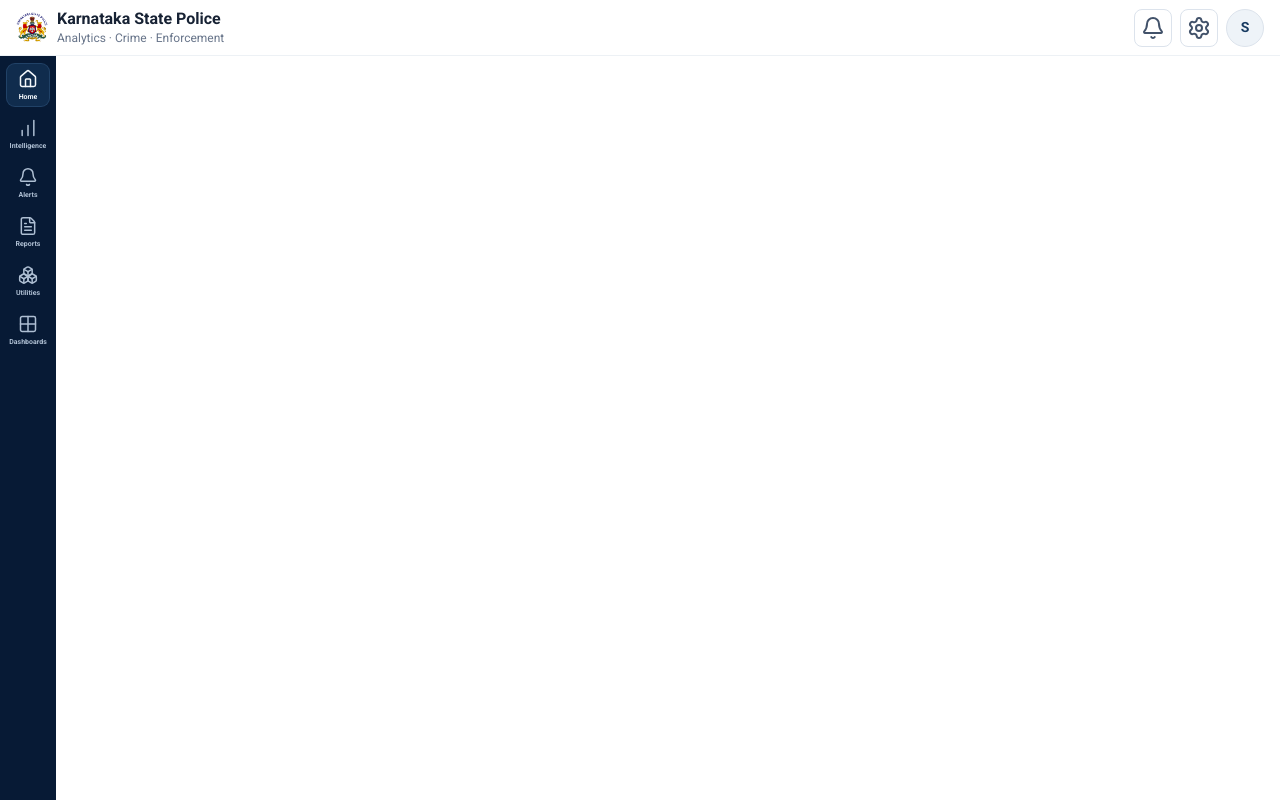
Test: removes Team and switches only among authorized personas
The image size is (1280, 800).
Click the button named "Open account menu". click: (1245, 28)
box: x1=1226 y1=8 x2=1264 y2=46
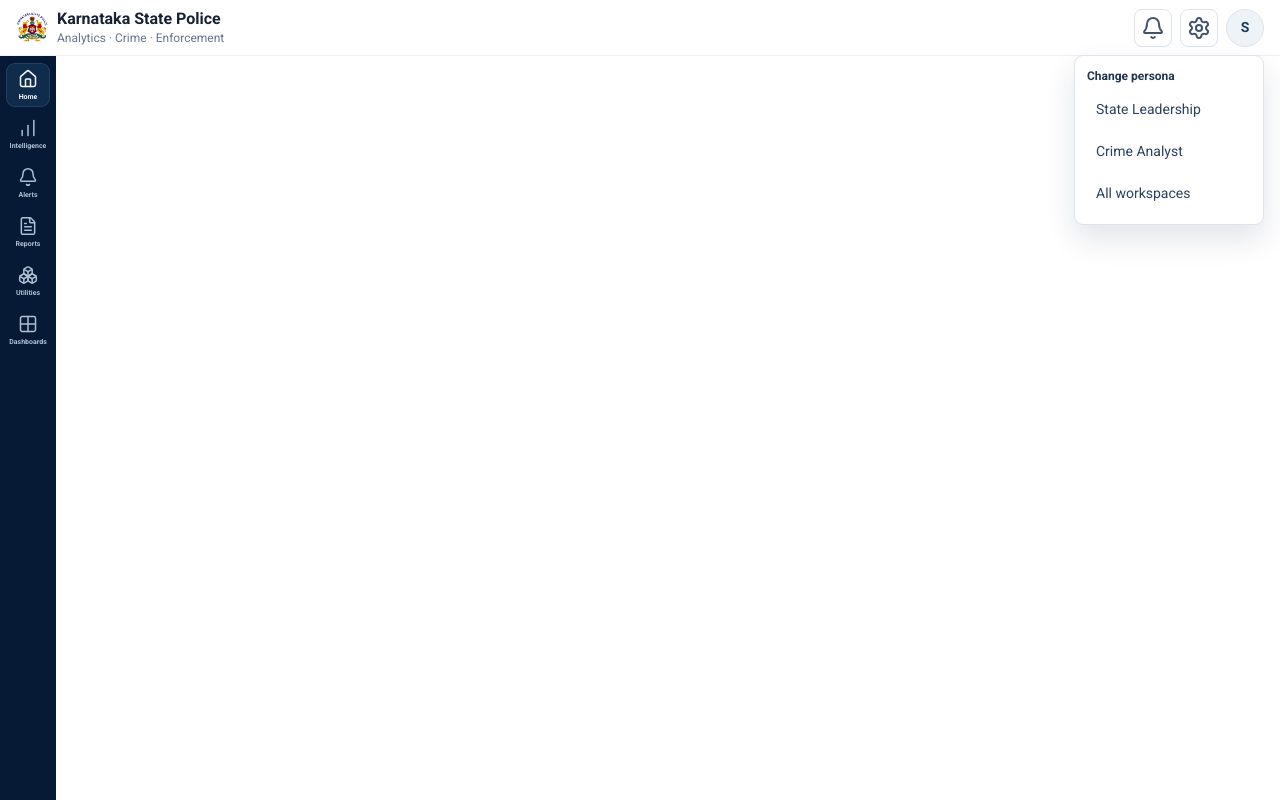
Click the menu item "Crime Analyst". click: (1169, 151)
box: x1=1087 y1=133 x2=1251 y2=170
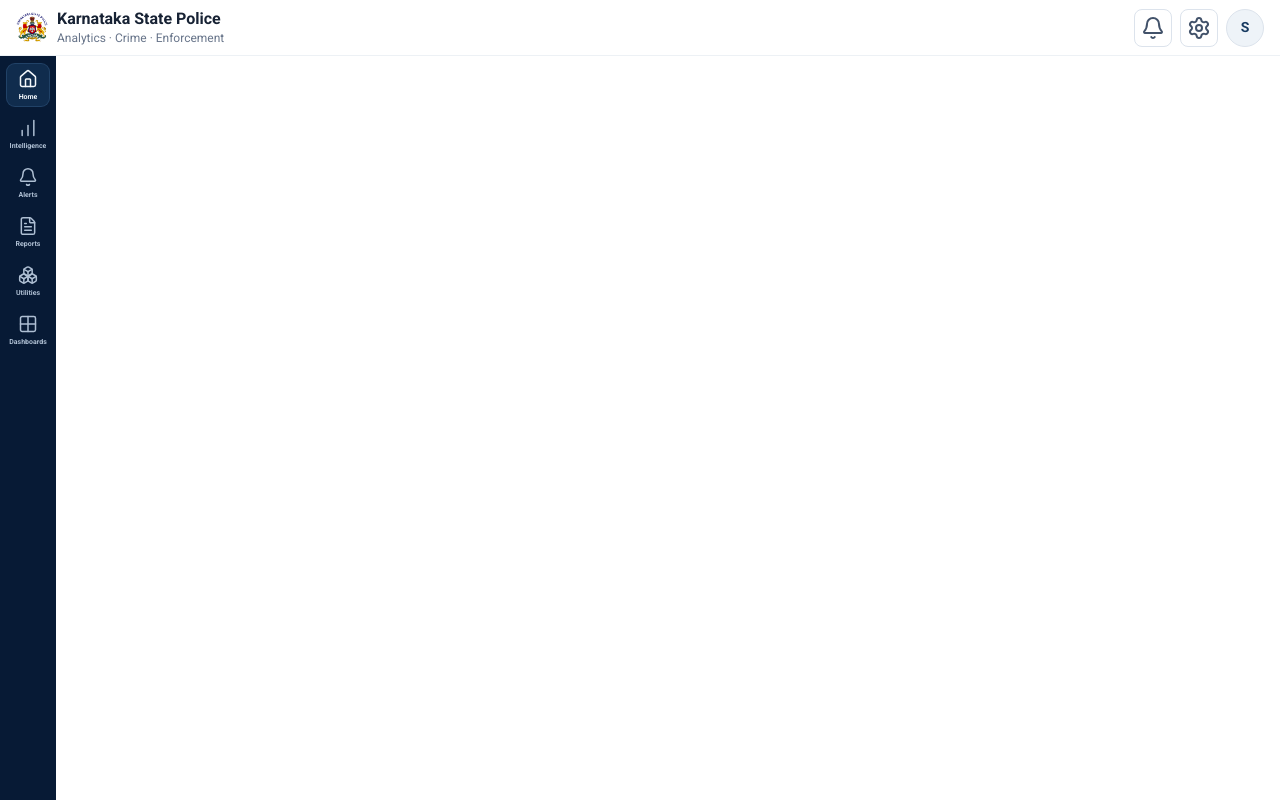
Result: the text "Change persona" is gone
